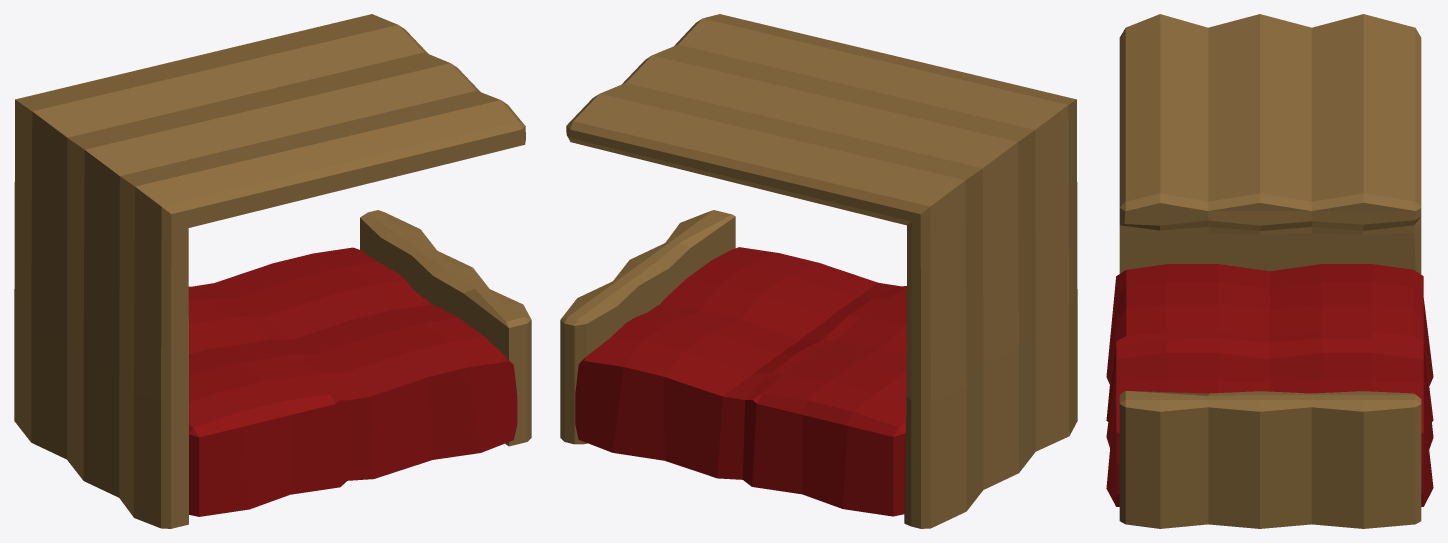
File: Bed.fbx
3 renders of one model, left to right at view 1: azimuth 30°, elevation 25°; view 2: azimuth 150°, elevation 25°; view 3: azimuth 270°, elevation 25°, orthographic.
Parts seen in each view (by area): view 1: Cube.001, Cube.000; view 2: Cube.001, Cube.000; view 3: Cube.001, Cube.000.
Part boxes in pixels (box(x1,y1,x2,y2)): Cube.001: box(14, 14, 531, 528); Cube.000: box(188, 247, 517, 516); Cube.001: box(560, 14, 1077, 528); Cube.000: box(575, 247, 906, 516); Cube.001: box(1119, 14, 1421, 528); Cube.000: box(1106, 264, 1433, 506).
Bounding box in the file's own units: 738 × 600 × 543.
